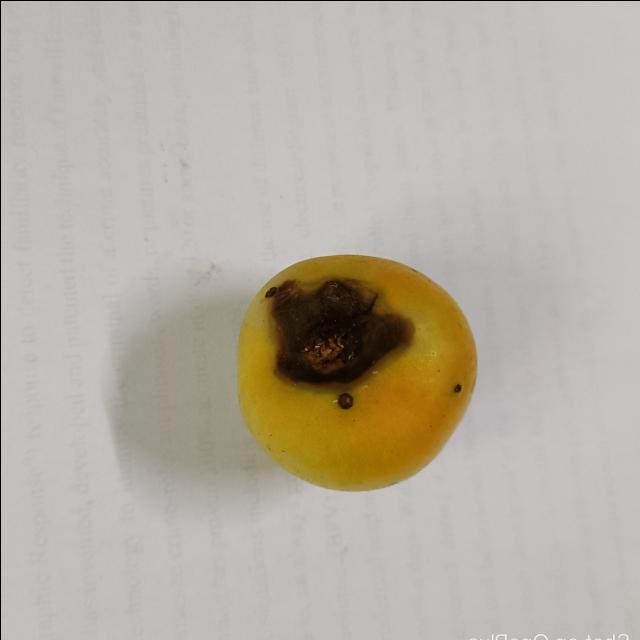Anthrocnose: (260, 272, 410, 405)
